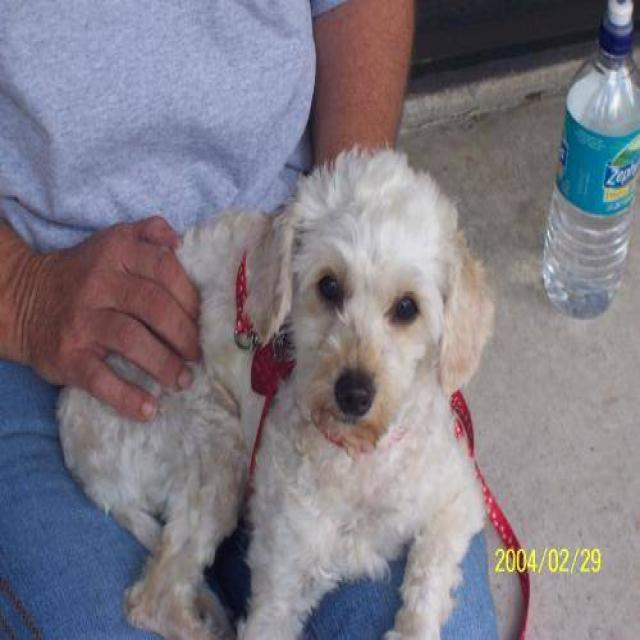dog: (52, 142, 496, 638)
